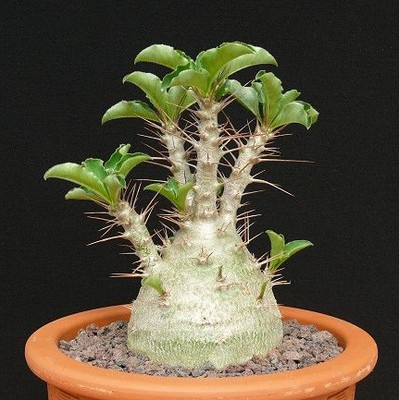Pachypodium saundersii: (53, 31, 344, 365)
